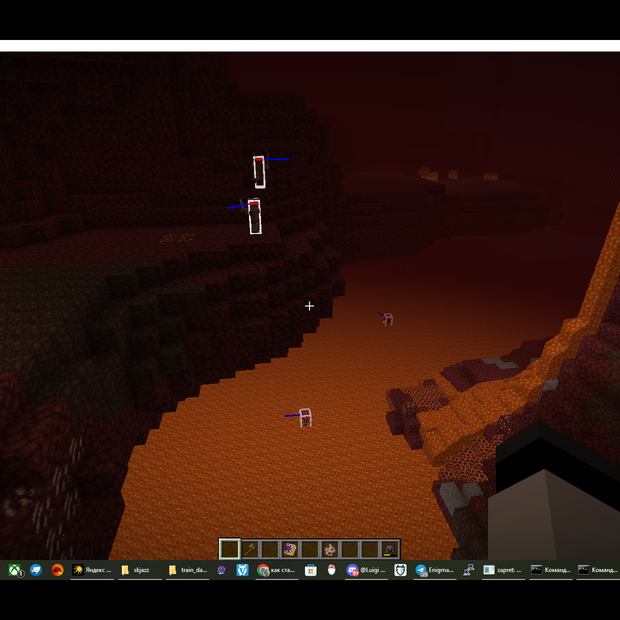target: (252, 155, 267, 188), (248, 199, 261, 232), (300, 408, 311, 429), (382, 311, 394, 328)
